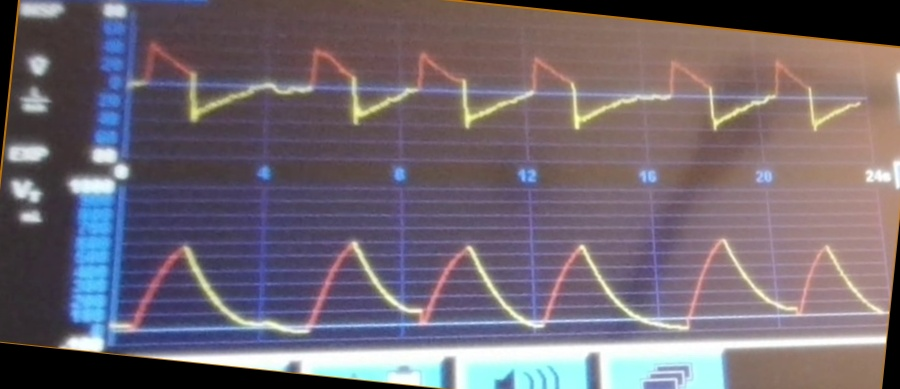Ineffective_effort Flow: (134, 39, 863, 152)
Ineffective_effort Volume: (117, 224, 883, 337)
